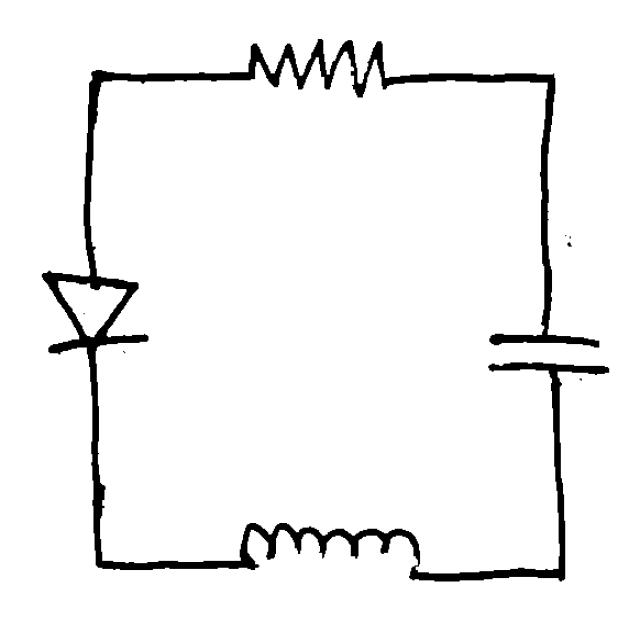capacitor: (470, 308, 621, 396)
diode: (27, 257, 162, 374)
inductor: (218, 506, 435, 595)
resistor: (228, 28, 420, 121)
